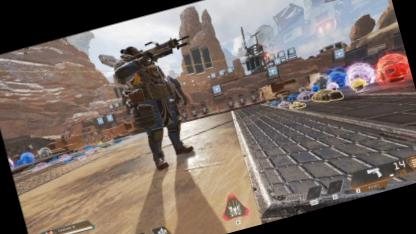Target: (107, 35, 198, 172)
